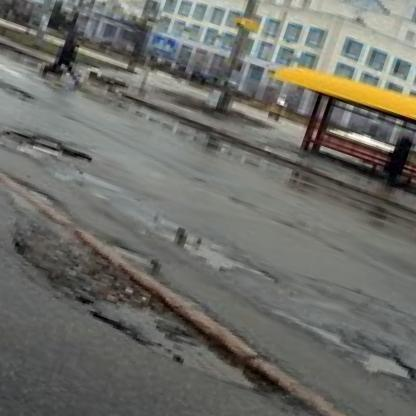pothole: (0, 207, 319, 407), (0, 121, 97, 170), (355, 341, 416, 389), (104, 240, 160, 276), (0, 63, 41, 105)
